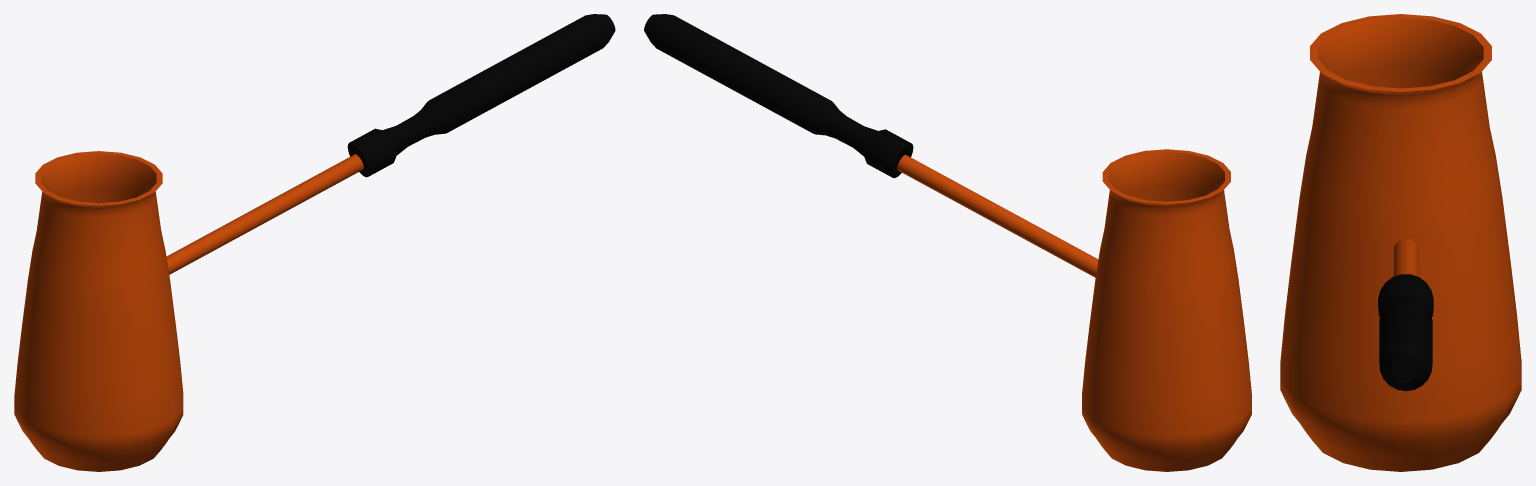
The model's file is Cezve.FBX.
3 views of the same model, side by side, from view 1: azimuth 30°, elevation 25°; view 2: azimuth 150°, elevation 25°; view 3: azimuth 270°, elevation 25° (orthographic). The views are drawn at different scales.
Visible parts, largest first — view 1: Cezve; view 2: Cezve; view 3: Cezve.
Part boxes in pixels (x1,y1,x2,y2): Cezve: (14,14,615,471); Cezve: (644,14,1251,471); Cezve: (1280,14,1521,471).
Bounding box in the file's own units: 14.72 × 7.32 × 3.65.
